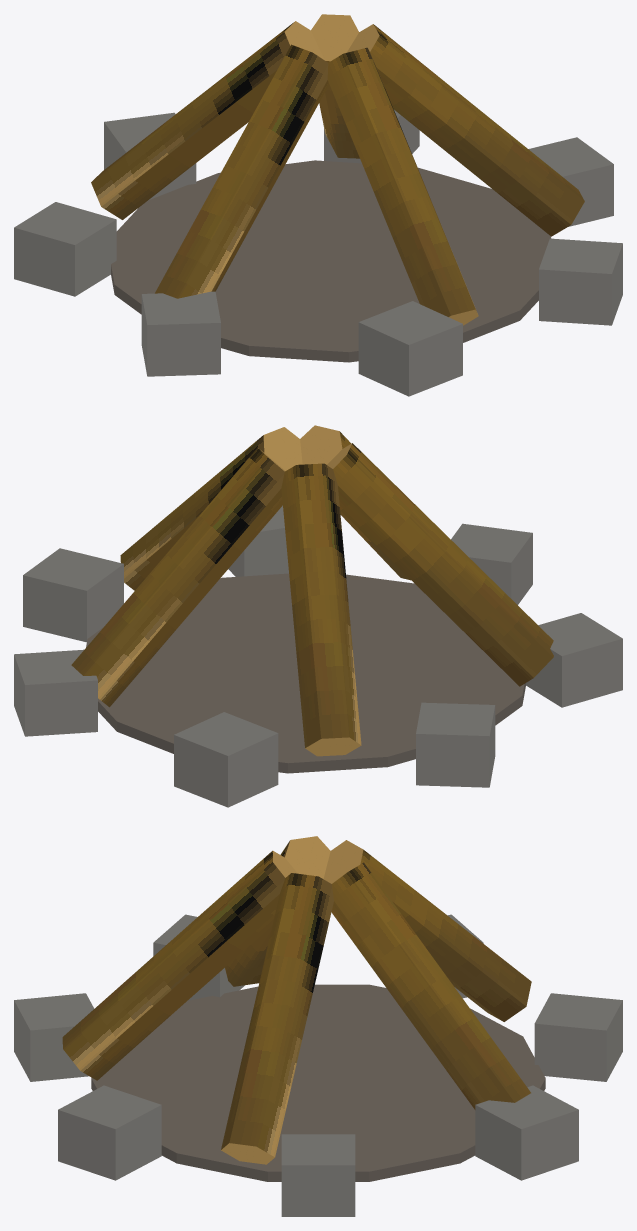
File: Building_Campfire.glb
3 views of the same model, one above another, from view 1: azimuth 30°, elevation 25°; view 2: azimuth 150°, elevation 25°; view 3: azimuth 270°, elevation 25° (orthographic).
Parts seen in each view (by area): view 1: Campfire; view 2: Campfire; view 3: Campfire.
Part boxes in pixels (x1,y1,x2,y2): Campfire: (14,14,622,396); Campfire: (14,425,622,807); Campfire: (14,836,622,1216).
Bounding box in the file's own units: 1.05 × 0.451 × 1.07.
1 material, 1 textured.
